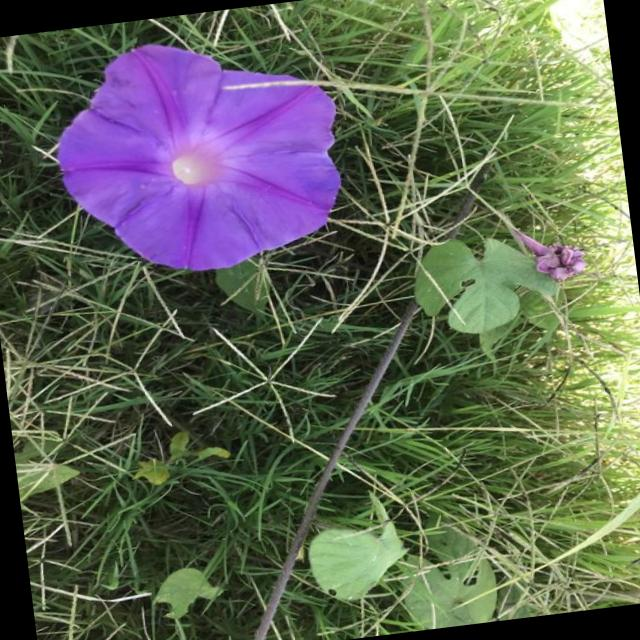ipomoea: (40, 19, 357, 290), (506, 216, 591, 290)
